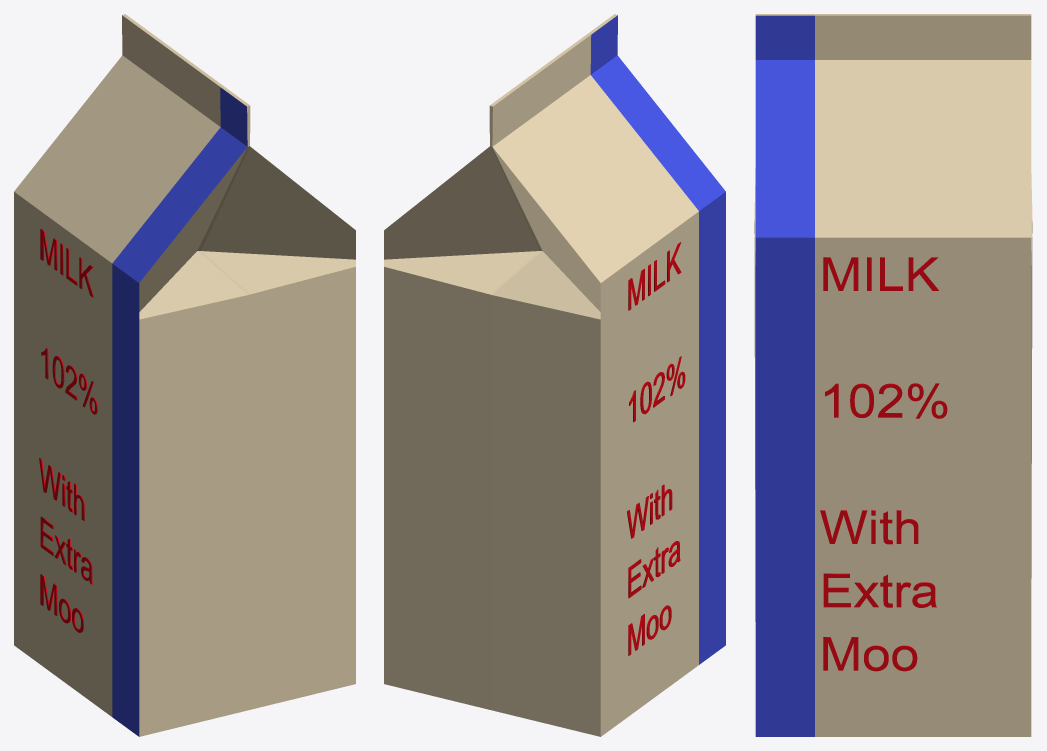
The model's file is Milk.fbx.
3 views of the same model, side by side, from view 1: azimuth 30°, elevation 25°; view 2: azimuth 150°, elevation 25°; view 3: azimuth 270°, elevation 25° (orthographic). The views are drawn at different scales.
Parts seen in each view (by area): view 1: Milk; view 2: Milk; view 3: Milk.
Part boxes in pixels (left/top/right/bottom): Milk: left=14, top=14, right=355, bottom=736; Milk: left=384, top=14, right=725, bottom=736; Milk: left=754, top=14, right=1032, bottom=736.
Bounding box in the file's own units: 134 × 353 × 134.
